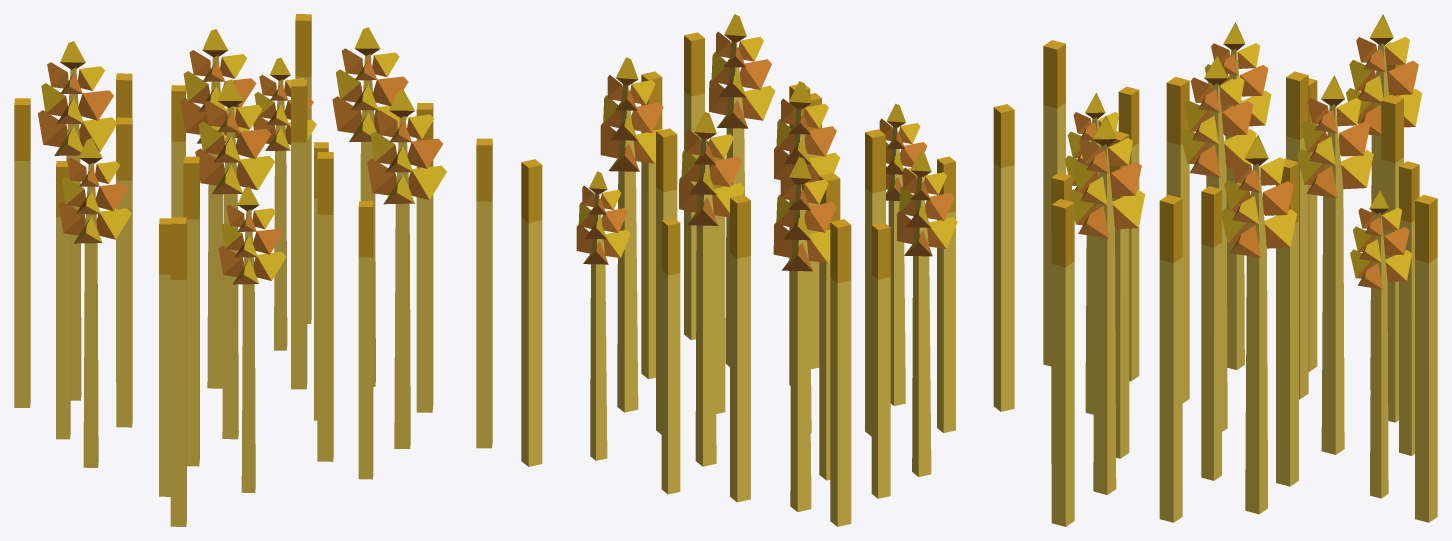
The model's file is wheat_field_dense.fbx.
3 renders of one model, left to right at view 1: azimuth 30°, elevation 25°; view 2: azimuth 150°, elevation 25°; view 3: azimuth 270°, elevation 25°, orthographic. The views are drawn at different scales.
Visible parts, largest first — view 1: Plane.003; view 2: Plane.003; view 3: Plane.003.
Boxes of the visible parts, bbox=[...] form: Plane.003: bbox=[14, 14, 492, 526]; Plane.003: bbox=[521, 14, 1014, 526]; Plane.003: bbox=[1043, 14, 1437, 526].
Bounding box in the file's own units: 96.16 × 95.75 × 90.7.
